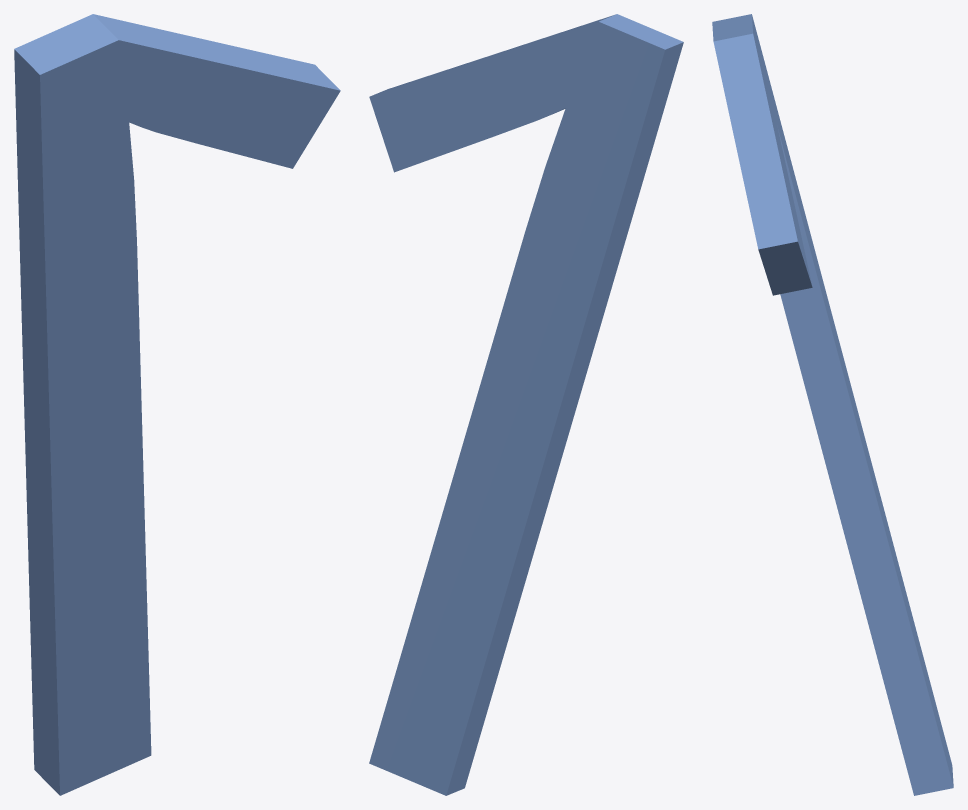
The model's file is New_Number_1.gltf.
3 views of the same model, side by side, from view 1: azimuth 30°, elevation 25°; view 2: azimuth 150°, elevation 25°; view 3: azimuth 270°, elevation 25° (orthographic). The views are drawn at different scales.
Parts seen in each view (by area): view 1: Part 442; view 2: Part 442; view 3: Part 442.
Part boxes in pixels (x1,y1,x2,y2): Part 442: [14, 14, 340, 795]; Part 442: [369, 14, 683, 795]; Part 442: [712, 14, 953, 795].
Size of the model in its own units: 0.00197 by 0.00495 by 0.00152.
